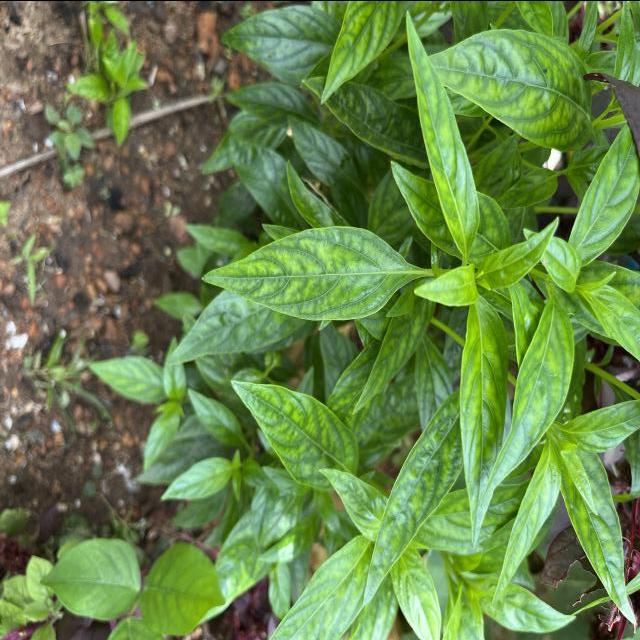Andrographis paniculata: (355, 406, 461, 609), (200, 222, 406, 323), (404, 7, 483, 256), (436, 28, 593, 150), (228, 376, 360, 490), (561, 452, 639, 627), (458, 296, 510, 554), (350, 297, 434, 416), (576, 126, 640, 264), (482, 213, 561, 290), (414, 262, 476, 310)
